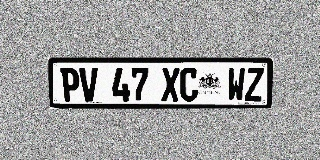4: (112, 68, 130, 101)
7: (131, 68, 149, 101)
C: (180, 68, 198, 101)
P: (61, 68, 80, 101)
V: (79, 68, 98, 101)
W: (227, 68, 245, 101)
X: (162, 68, 180, 101)
Z: (245, 68, 264, 101)
